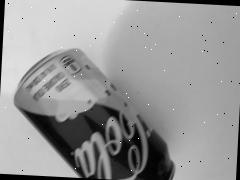metal: (1, 32, 188, 180)
